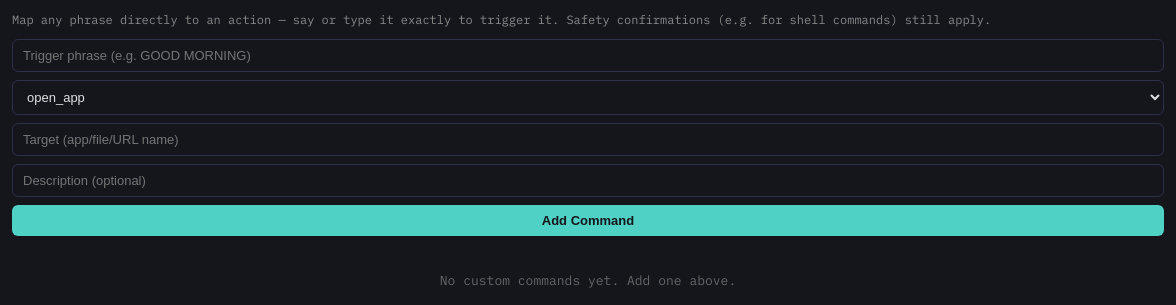
Test: CustomCommandsPanel › only shows an argument field for intents that need one
Select "media_play" in the dropdown. click: (588, 98)
box: [12, 80, 1164, 115]
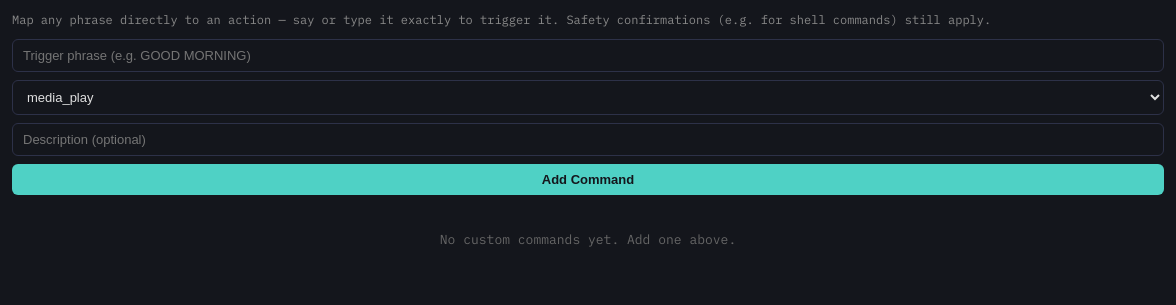
Select "open_app" in the dropdown. click: (588, 98)
box: [12, 80, 1164, 115]
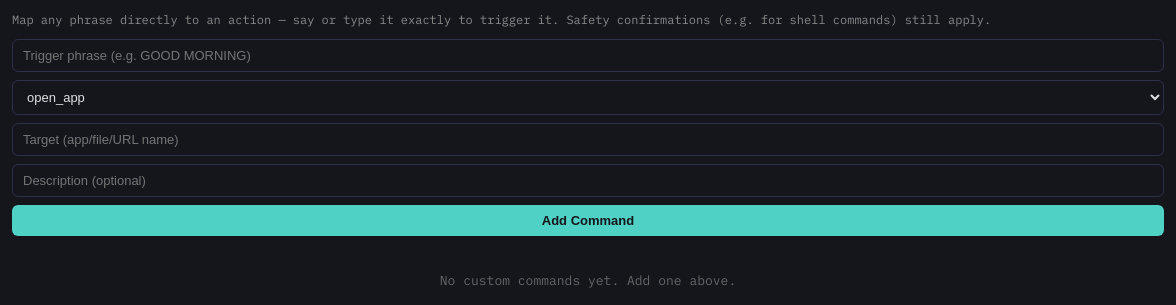
Now the field with placeholder "Target (app/file/URL name)" is shown, box [12, 123, 1164, 156]
